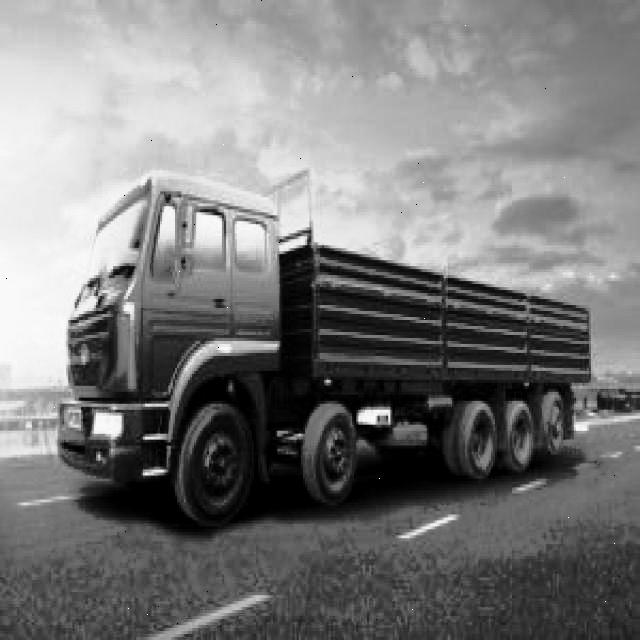HCV: (50, 152, 609, 538)
